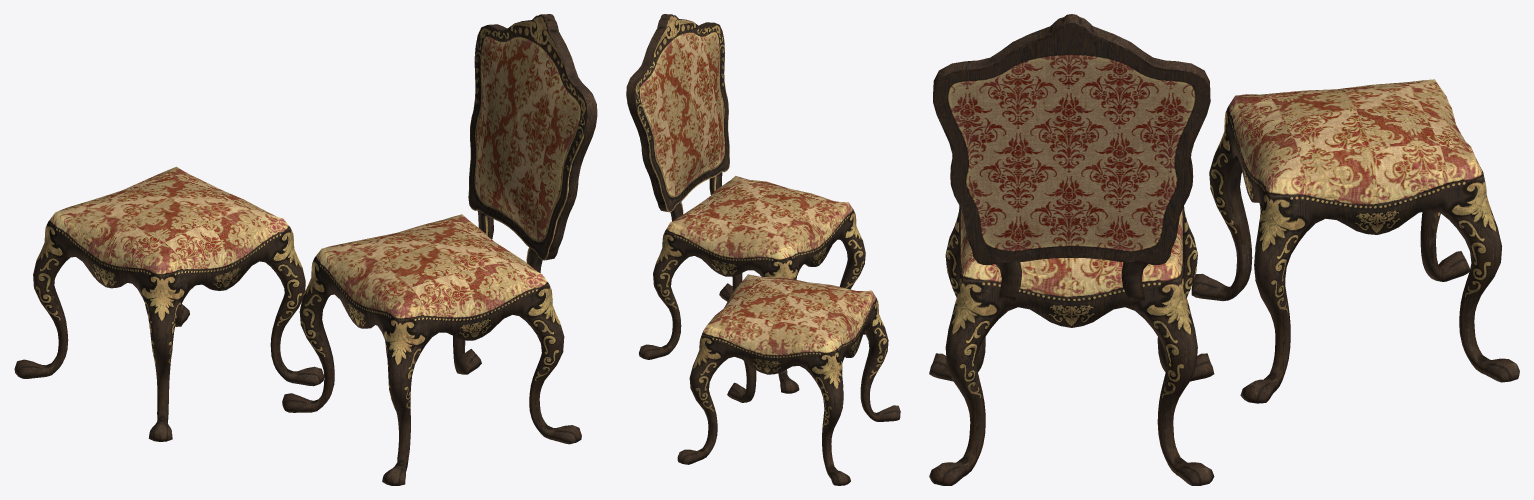
File: dining_chair.glb
3 renders of one model, left to right at view 1: azimuth 30°, elevation 25°; view 2: azimuth 150°, elevation 25°; view 3: azimuth 270°, elevation 25°, orthographic. The views are drawn at different scales.
Visible parts, largest first — view 1: DiningxChair, DiningxStool; view 2: DiningxChair, DiningxStool; view 3: DiningxChair, DiningxStool.
Part boxes in pixels (box(x1,y1,x2,y2)): DiningxChair: box(282, 14, 597, 485); DiningxStool: box(14, 166, 324, 441); DiningxChair: box(626, 14, 865, 393); DiningxStool: box(677, 274, 900, 485); DiningxChair: box(929, 14, 1214, 485); DiningxStool: box(1191, 79, 1519, 403).
Size of the model in its own units: 1.39 by 1.33 by 1.48.
1 material, 1 textured.
